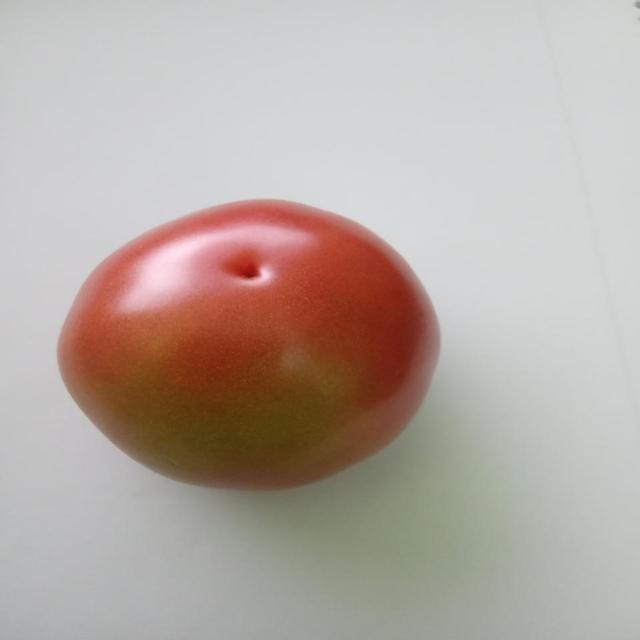Healthy Fruit: (33, 126, 299, 329)
